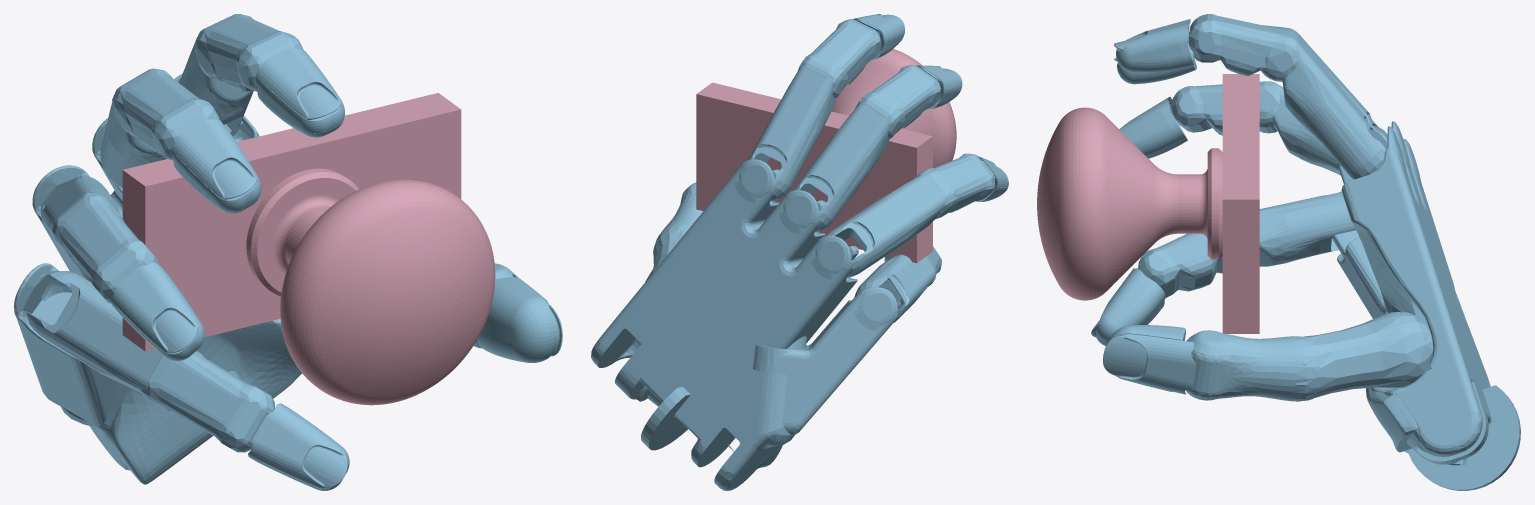
The picture shows the model from 3 angles, left to right: view 1: azimuth 30°, elevation 25°; view 2: azimuth 150°, elevation 25°; view 3: azimuth 270°, elevation 25°; orthographic projection. The views are drawn at different scales.
Visible parts, largest first — view 1: world, door_knob.stl; view 2: world, door_knob.stl; view 3: world, door_knob.stl.
Boxes of the visible parts, x1,y1,x2,y2 form: world: [14, 14, 562, 490]; door_knob.stl: [122, 93, 495, 405]; world: [591, 14, 1008, 490]; door_knob.stl: [696, 49, 956, 263]; world: [1091, 14, 1520, 490]; door_knob.stl: [1037, 74, 1259, 333].
Size of the model in its own units: 0.1368 by 0.1675 by 0.1629.
